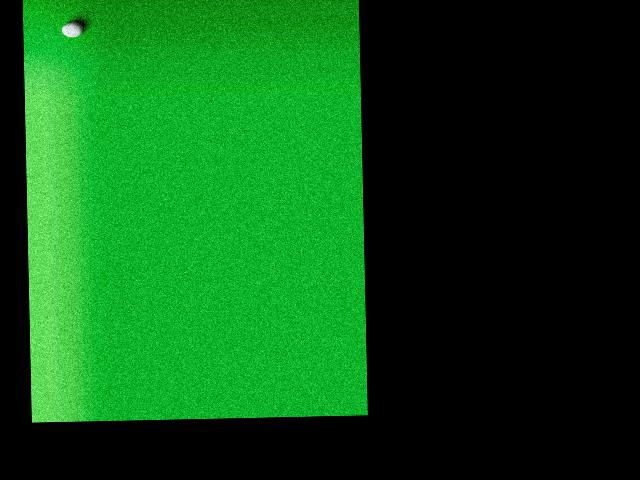egg: (61, 22, 83, 37)
